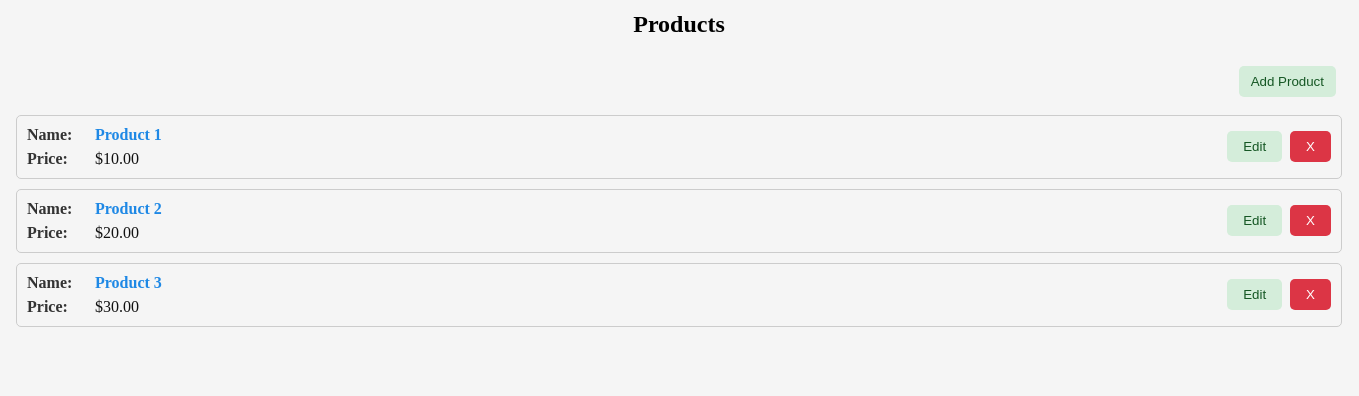
Test: ProductDashboard › Add Product Button Tests › should change button to Cancel when form is open
The width and height of the screenshot is (1359, 396).
Click the button "Add Product": click(1287, 81) left=1239, top=66, right=1336, bottom=97
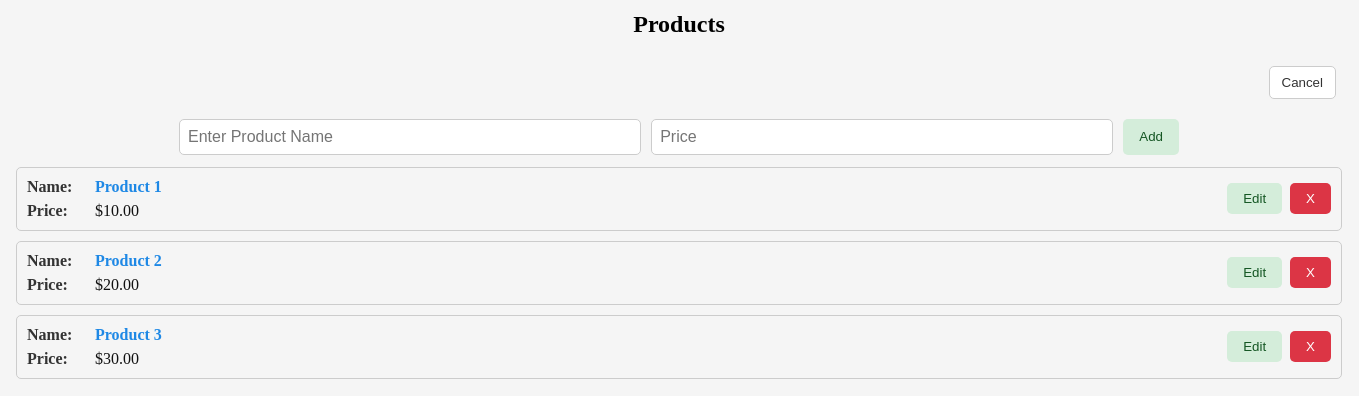
Check: the button "Cancel" is shown, box left=1268, top=66, right=1336, bottom=99
Check: the button "Add Product" is gone
